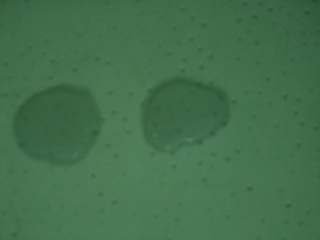Water_detected: (143, 75, 211, 137), (22, 96, 83, 160)
